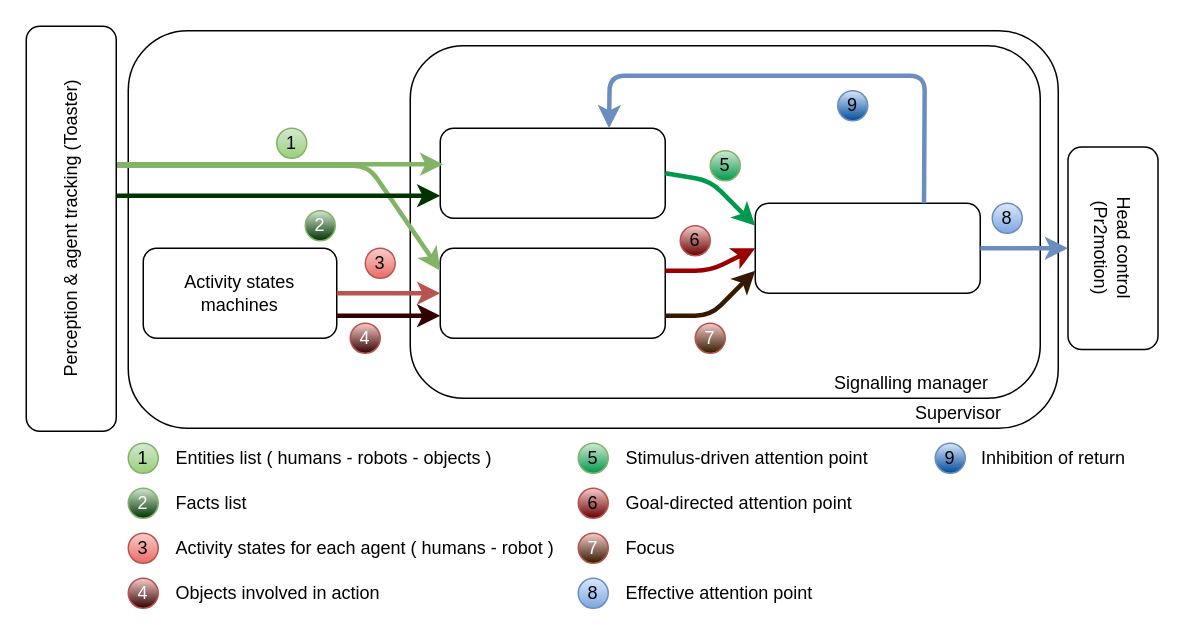
The diagram is 1185 pixels wide and 635 high, and some of its shapes have lost their labels. Here are the shapes that lost their labels. From the top down, the centre of each, then its label:
the point at 552,172: Stimulus-driven attention
the point at 867,247: Sensitive reorientation
the point at 552,292: Goal-directed attention
